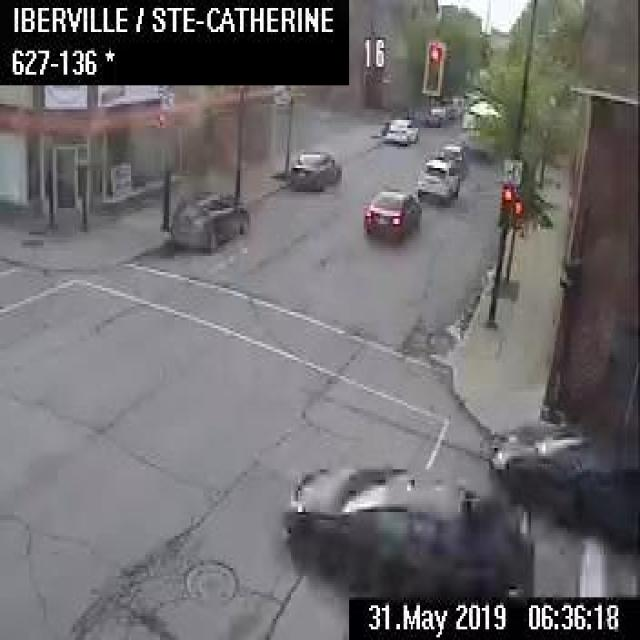vehicle: (282, 464, 533, 597), (488, 416, 638, 533), (169, 190, 248, 248), (363, 188, 421, 240), (287, 147, 341, 188), (415, 155, 459, 205), (382, 115, 416, 144), (438, 142, 466, 177), (424, 103, 448, 125)
